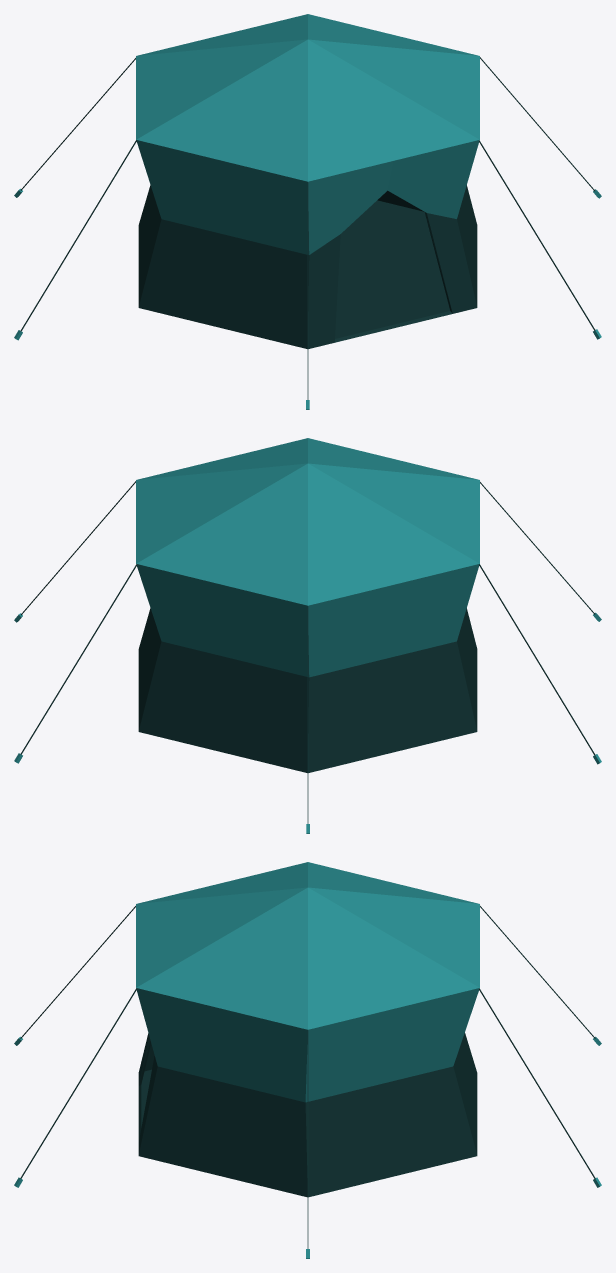
The model's file is Tent_6_Blue.fbx.
3 renders of one model, top to bottom at view 1: azimuth 30°, elevation 25°; view 2: azimuth 150°, elevation 25°; view 3: azimuth 270°, elevation 25°, orthographic.
Parts seen in each view (by area): view 1: Tent_6_Blue_Part_9, Tent_6_Blue_Part_7, Tent_6_Blue_Part_1, Tent_6_Blue_Part_11, Tent_6_Blue_Part_10, Tent_6_Blue_Part_8, Tent_6_Blue_Part_2, Tent_6_Blue_Part_12, Tent_6_Blue_Part_6, Tent_6_Blue_Part_3; view 2: Tent_6_Blue_Part_9, Tent_6_Blue_Part_6, Tent_6_Blue_Part_5, Tent_6_Blue_Part_12, Tent_6_Blue_Part_4, Tent_6_Blue_Part_7; view 3: Tent_6_Blue_Part_9, Tent_6_Blue_Part_3, Tent_6_Blue_Part_4, Tent_6_Blue_Part_12, Tent_6_Blue_Part_5.
Boxes of the visible parts, x1=… form: Tent_6_Blue_Part_9: x1=136, y1=14, x2=479, y2=181; Tent_6_Blue_Part_7: x1=136, y1=140, x2=309, y2=348; Tent_6_Blue_Part_1: x1=334, y1=200, x2=452, y2=342; Tent_6_Blue_Part_11: x1=387, y1=140, x2=479, y2=218; Tent_6_Blue_Part_10: x1=308, y1=161, x2=393, y2=254; Tent_6_Blue_Part_8: x1=308, y1=234, x2=340, y2=348; Tent_6_Blue_Part_2: x1=424, y1=212, x2=477, y2=313; Tent_6_Blue_Part_12: x1=14, y1=57, x2=601, y2=409; Tent_6_Blue_Part_6: x1=138, y1=185, x2=161, y2=306; Tent_6_Blue_Part_3: x1=457, y1=185, x2=477, y2=306; Tent_6_Blue_Part_9: x1=136, y1=438, x2=479, y2=605; Tent_6_Blue_Part_6: x1=308, y1=564, x2=479, y2=772; Tent_6_Blue_Part_5: x1=136, y1=564, x2=309, y2=772; Tent_6_Blue_Part_12: x1=14, y1=481, x2=601, y2=833; Tent_6_Blue_Part_4: x1=138, y1=608, x2=161, y2=730; Tent_6_Blue_Part_7: x1=457, y1=608, x2=477, y2=730; Tent_6_Blue_Part_9: x1=136, y1=862, x2=479, y2=1029; Tent_6_Blue_Part_3: x1=136, y1=988, x2=307, y2=1197; Tent_6_Blue_Part_4: x1=305, y1=988, x2=479, y2=1197; Tent_6_Blue_Part_12: x1=14, y1=906, x2=601, y2=1258; Tent_6_Blue_Part_5: x1=453, y1=1033, x2=477, y2=1154.
Bounding box in the file's own units: 1636 × 612 × 1420.
